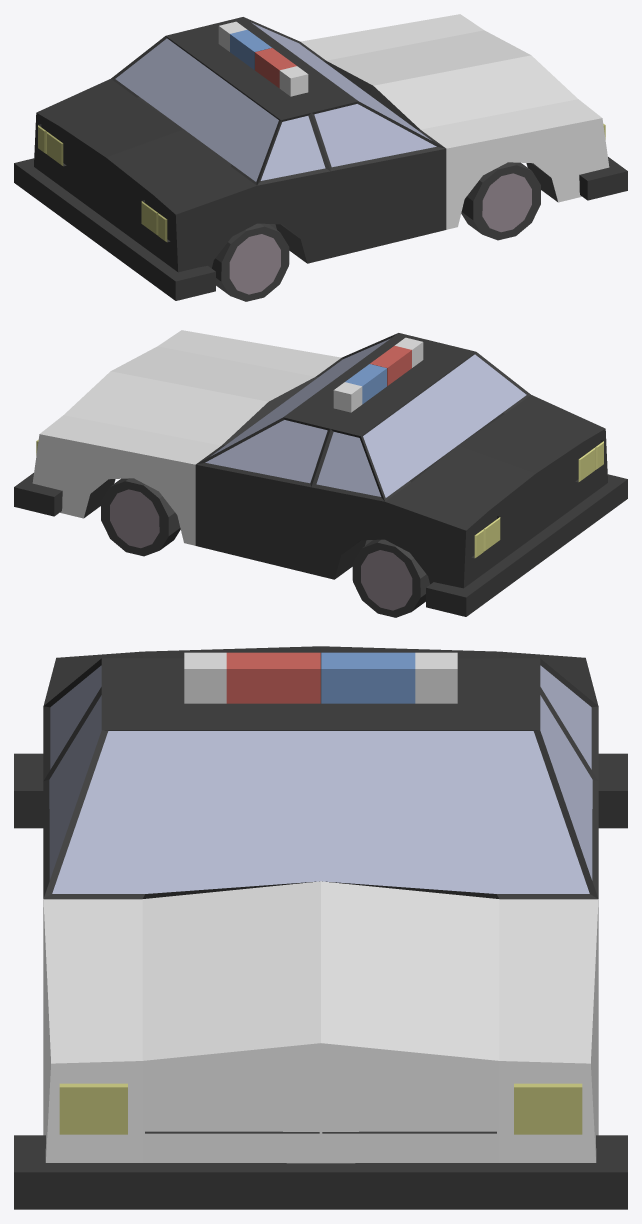
The model's file is police_car.fbx.
3 renders of one model, top to bottom at view 1: azimuth 30°, elevation 25°; view 2: azimuth 150°, elevation 25°; view 3: azimuth 270°, elevation 25°, orthographic. The views are drawn at different scales.
Visible parts, largest first — view 1: Cube.005; view 2: Cube.005; view 3: Cube.005.
Boxes of the visible parts, x1,y1,x2,y2 form: Cube.005: (14, 14, 627, 301); Cube.005: (14, 330, 627, 617); Cube.005: (14, 646, 627, 1209).
Bounding box in the file's own units: 628 × 235 × 389.
